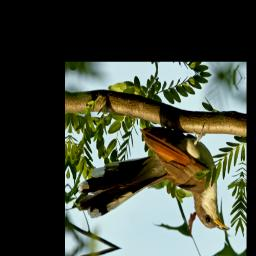Cuckoo: (76, 117, 234, 232)
